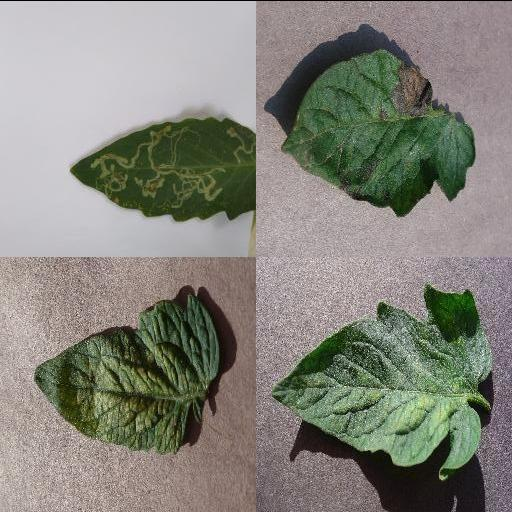Late Blight: (279, 47, 475, 217)
Leaf Miner: (69, 115, 253, 221)
Spider Mites: (267, 283, 495, 477), (33, 292, 219, 451)
